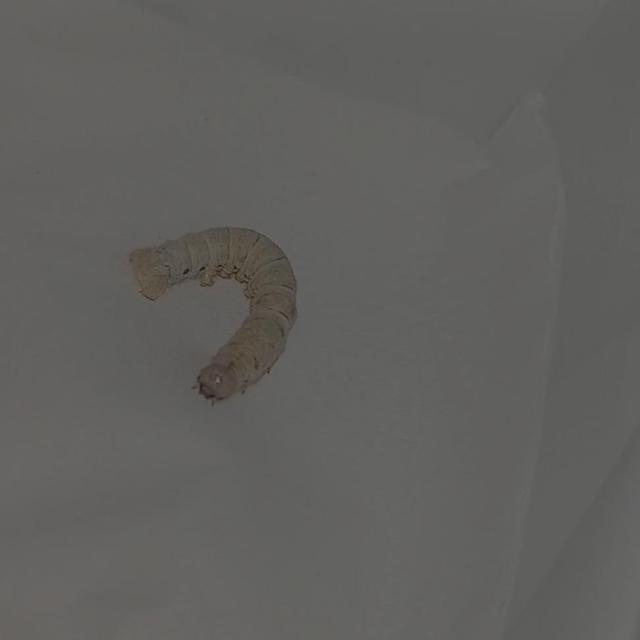Healthy: (124, 216, 304, 410)
